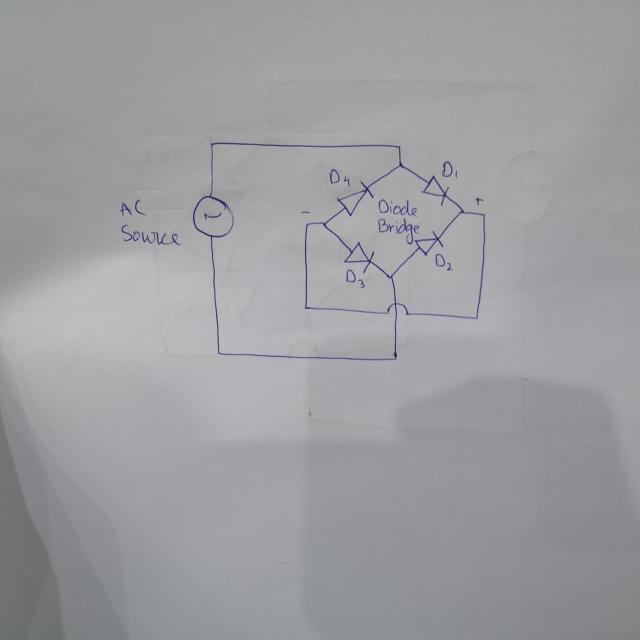crossover: (384, 301, 409, 319)
diode: (335, 178, 374, 218), (343, 239, 375, 275), (419, 172, 450, 206), (414, 228, 445, 256)
junction: (207, 138, 216, 150), (386, 271, 396, 281), (318, 218, 328, 228), (395, 159, 404, 170), (390, 351, 399, 362), (214, 348, 223, 358), (394, 142, 402, 152), (457, 207, 465, 215), (472, 313, 479, 322), (302, 304, 309, 312), (303, 220, 310, 227), (479, 211, 486, 217)
source: (189, 192, 237, 239)
text: (120, 222, 182, 250), (376, 217, 420, 245), (377, 198, 417, 218), (117, 196, 149, 218), (327, 166, 352, 188), (344, 268, 366, 290), (433, 252, 454, 272), (439, 158, 459, 178), (472, 194, 483, 206), (300, 208, 311, 216)
